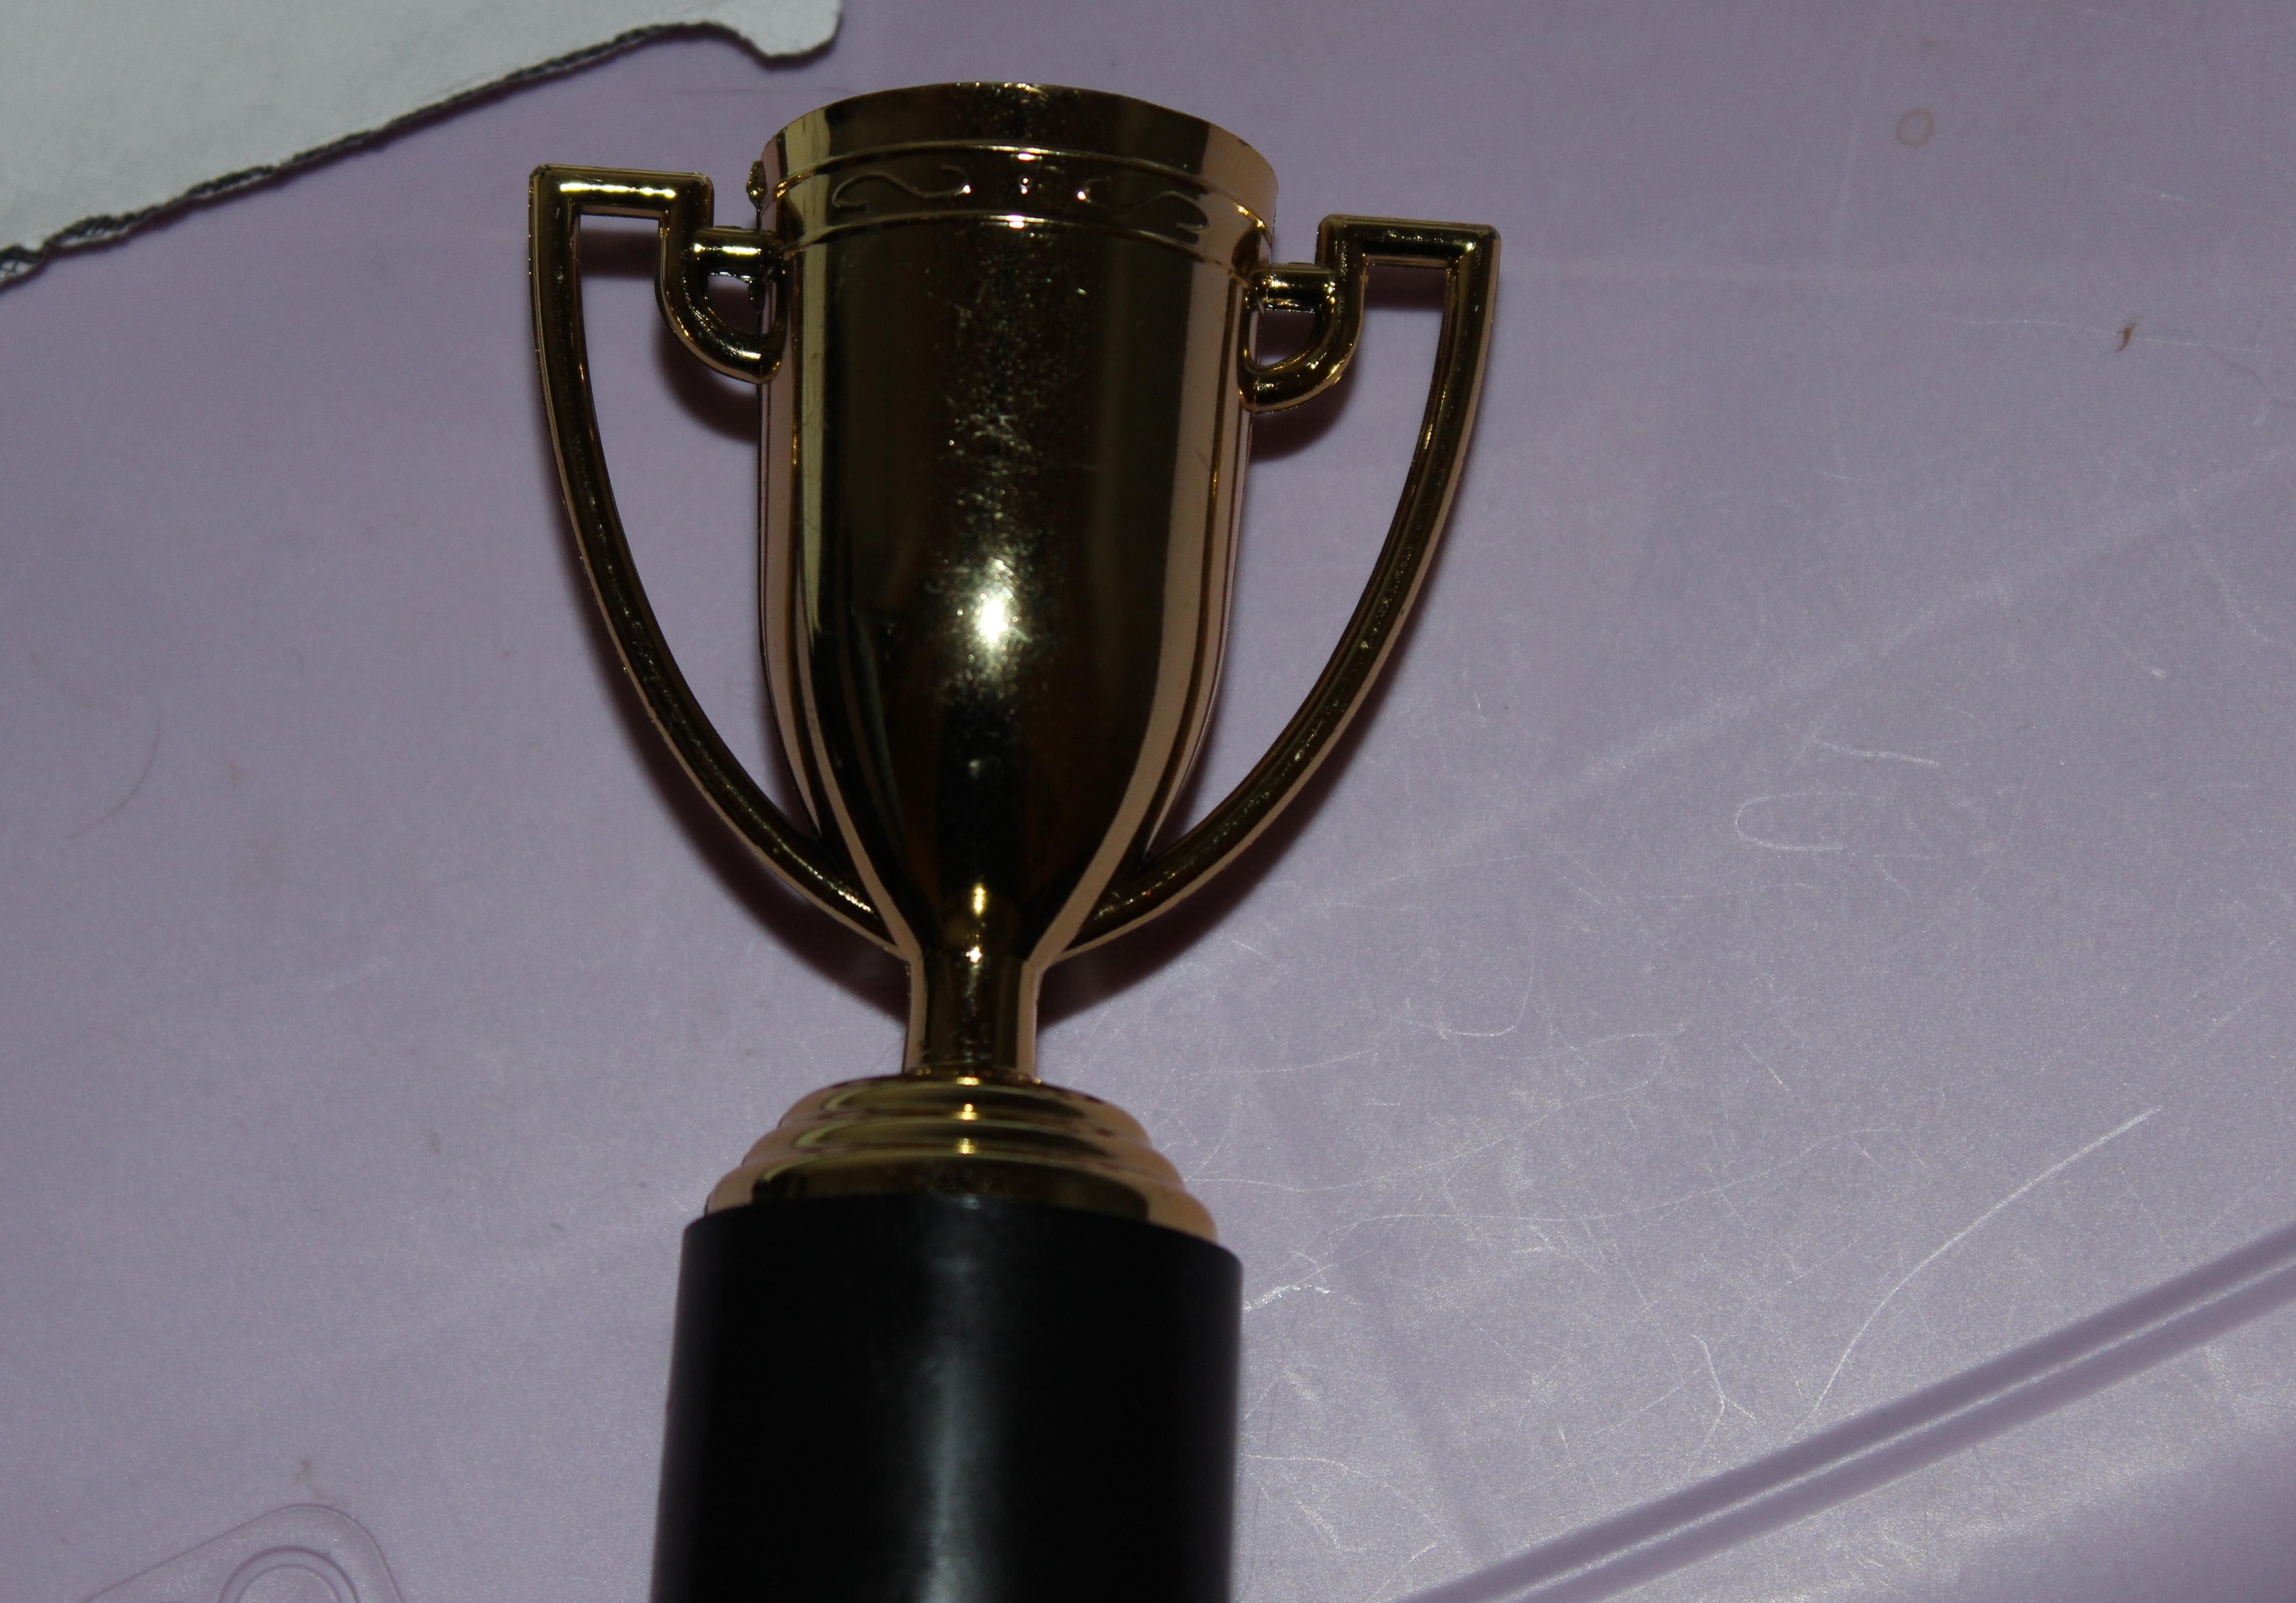trophy: (429, 31, 1558, 1603)
